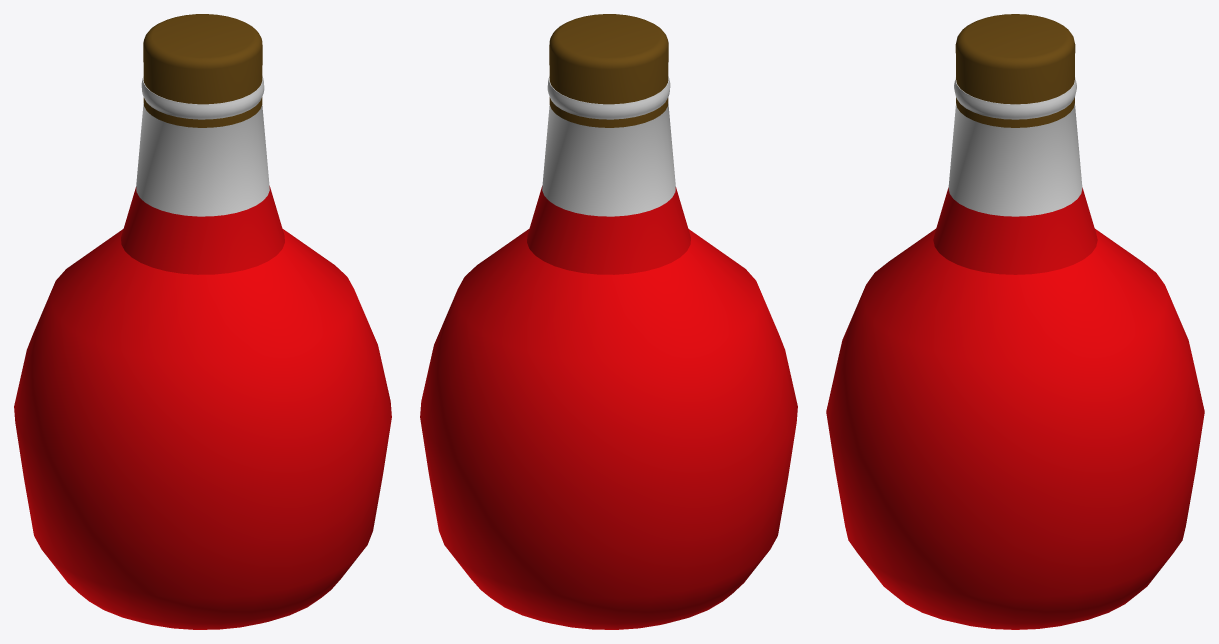
File: RED POTION.fbx
3 renders of one model, left to right at view 1: azimuth 30°, elevation 25°; view 2: azimuth 150°, elevation 25°; view 3: azimuth 270°, elevation 25°, orthographic.
Parts seen in each view (by area): view 1: RED POTION; view 2: RED POTION; view 3: RED POTION.
Part boxes in pixels (bbox=[...]): RED POTION: bbox=[14, 14, 391, 629]; RED POTION: bbox=[420, 14, 797, 629]; RED POTION: bbox=[826, 14, 1204, 629].
Bounding box in the file's own units: 200 × 319 × 200.
